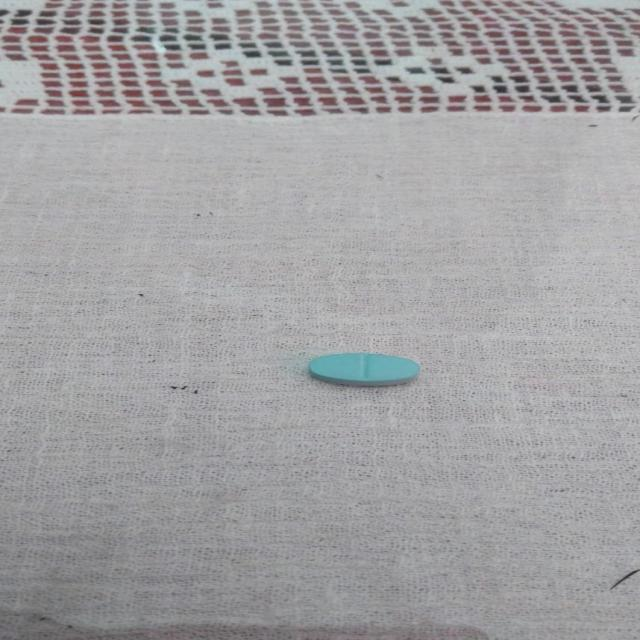pill: (302, 344, 419, 391)
